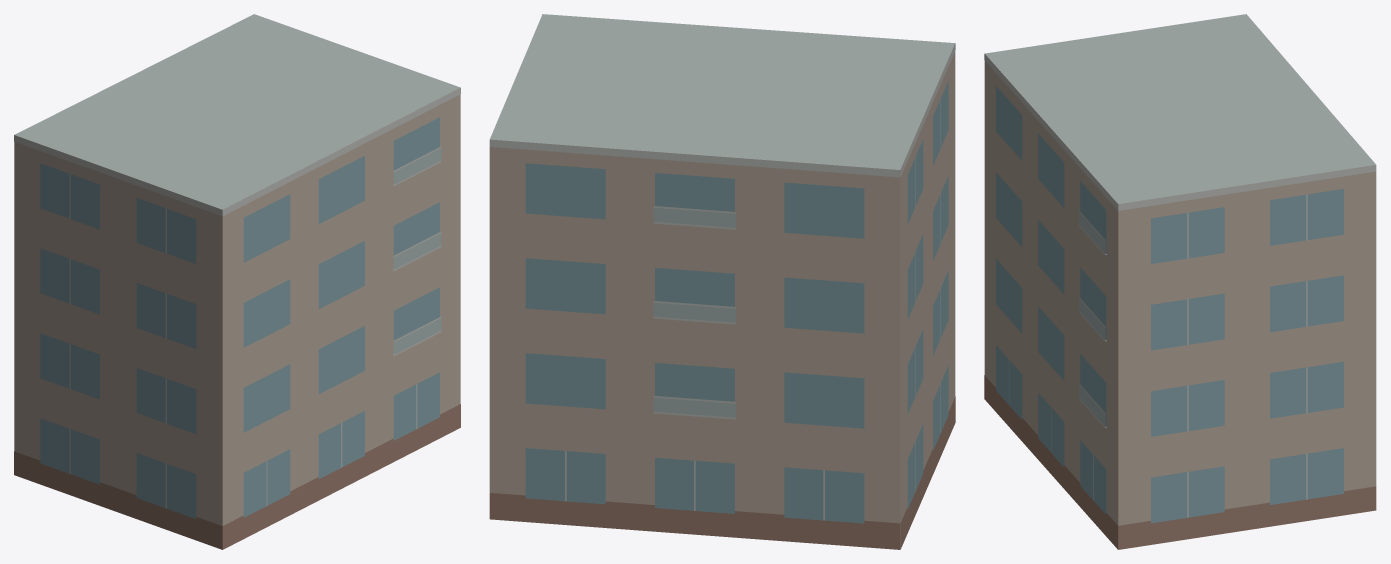
File: survey-upis-32863924.glb
3 views of the same model, side by side, from view 1: azimuth 30°, elevation 25°; view 2: azimuth 150°, elevation 25°; view 3: azimuth 270°, elevation 25° (orthographic). The views are drawn at different scales.
Visible parts, largest first — view 1: survey-upis-32863924.tmp; view 2: survey-upis-32863924.tmp; view 3: survey-upis-32863924.tmp.
Boxes of the visible parts, x1,y1,x2,y2 form: survey-upis-32863924.tmp: (14, 14, 460, 549); survey-upis-32863924.tmp: (489, 14, 955, 549); survey-upis-32863924.tmp: (984, 14, 1376, 549).
Size of the model in its own units: 14.88 by 12.6 by 12.95.
